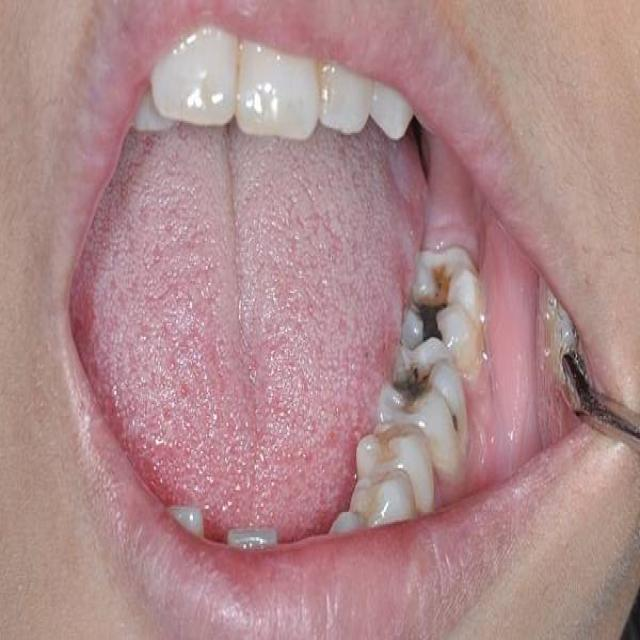caries: (398, 366, 443, 415), (419, 295, 449, 344), (446, 397, 465, 433)
